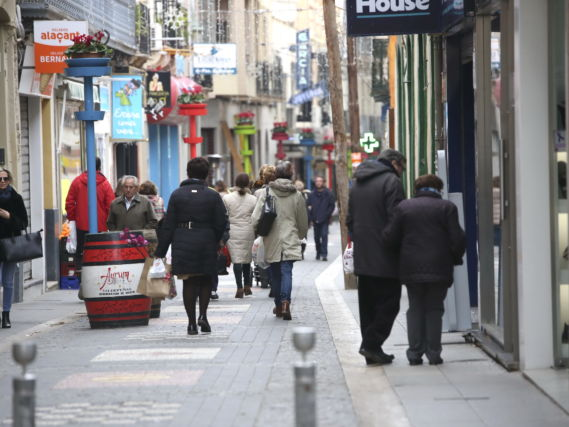person: (164, 147, 230, 315), (393, 177, 453, 301), (264, 160, 302, 238)
